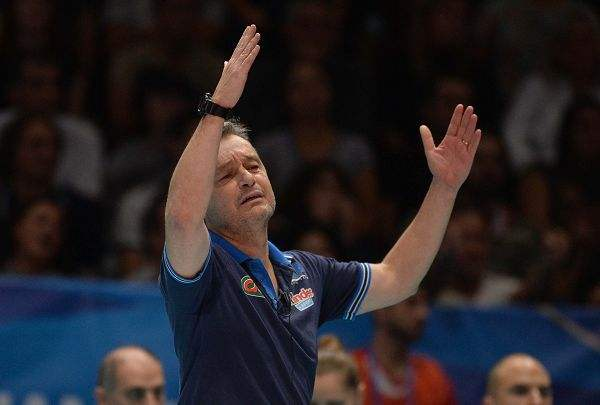no-phone: (417, 100, 483, 189), (211, 21, 263, 104)
